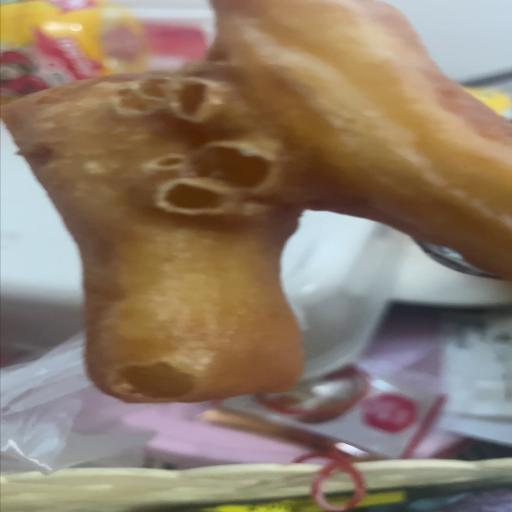street_burnt_defect: (4, 0, 510, 398)
